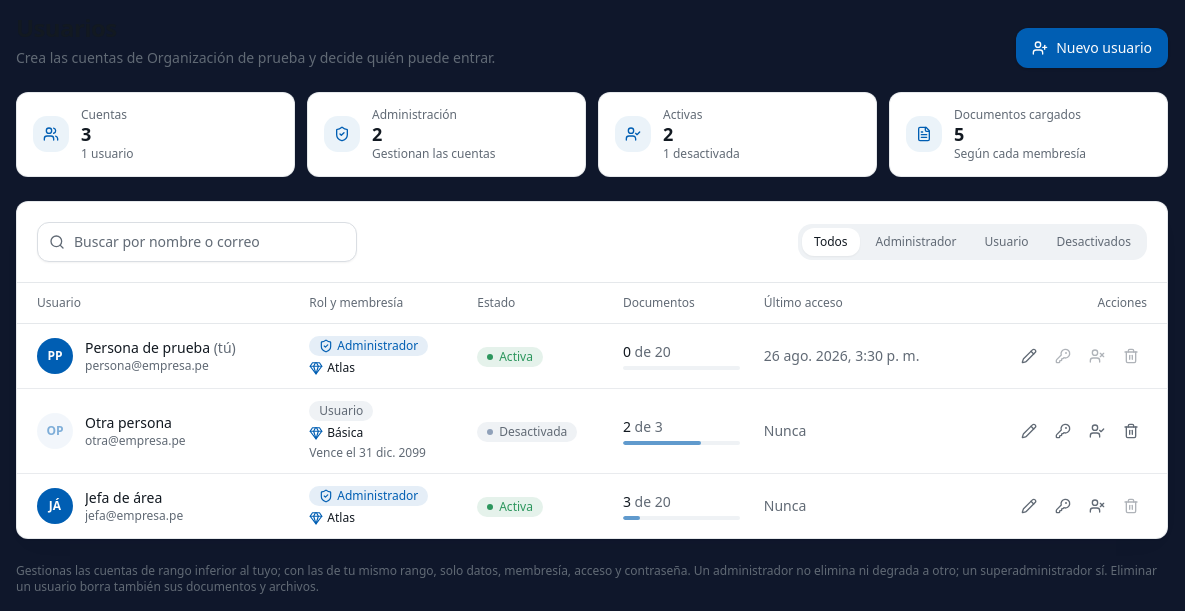
MembersPage: listado › busca por nombre o correo y filtra por tipo de cuenta
Expected: the text "Otra persona" is shown, x1=85 y1=412 x2=186 y2=432
Type "JEFA@" into the search field labelled "Buscar por nombre o correo". click: (197, 242)
box: x1=37 y1=222 x2=357 y2=262
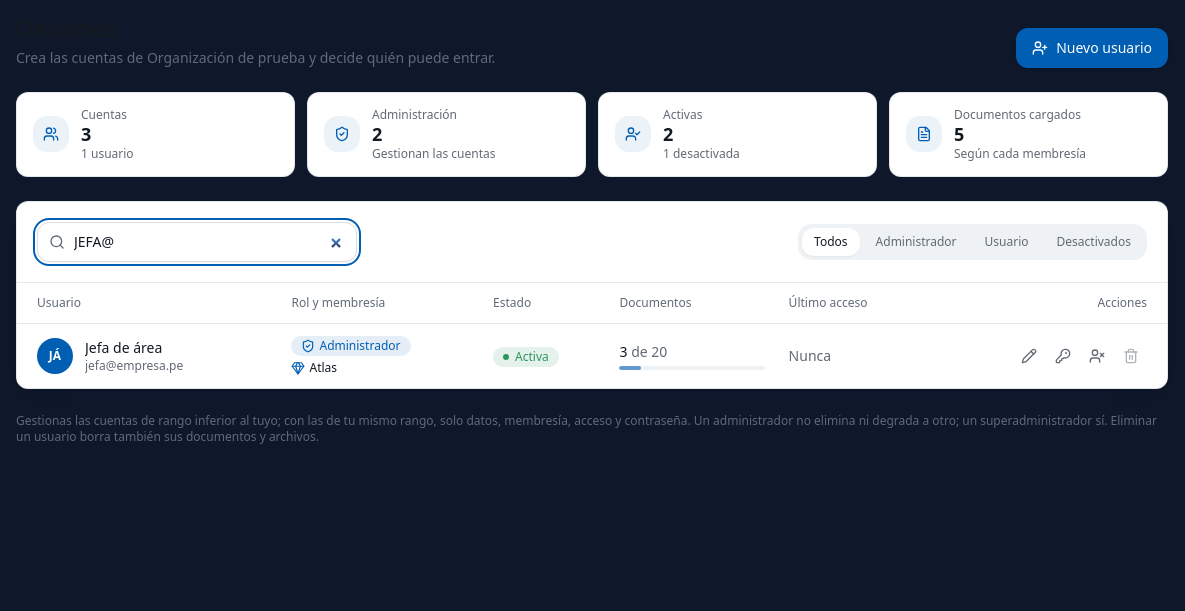
Expected: the text "Jefa de área" is shown, x1=85 y1=338 x2=162 y2=356
Expected: the text "Otra persona" is gone
Clear the search field named "Buscar por nombre o correo". click: (197, 242)
box: x1=37 y1=222 x2=357 y2=262
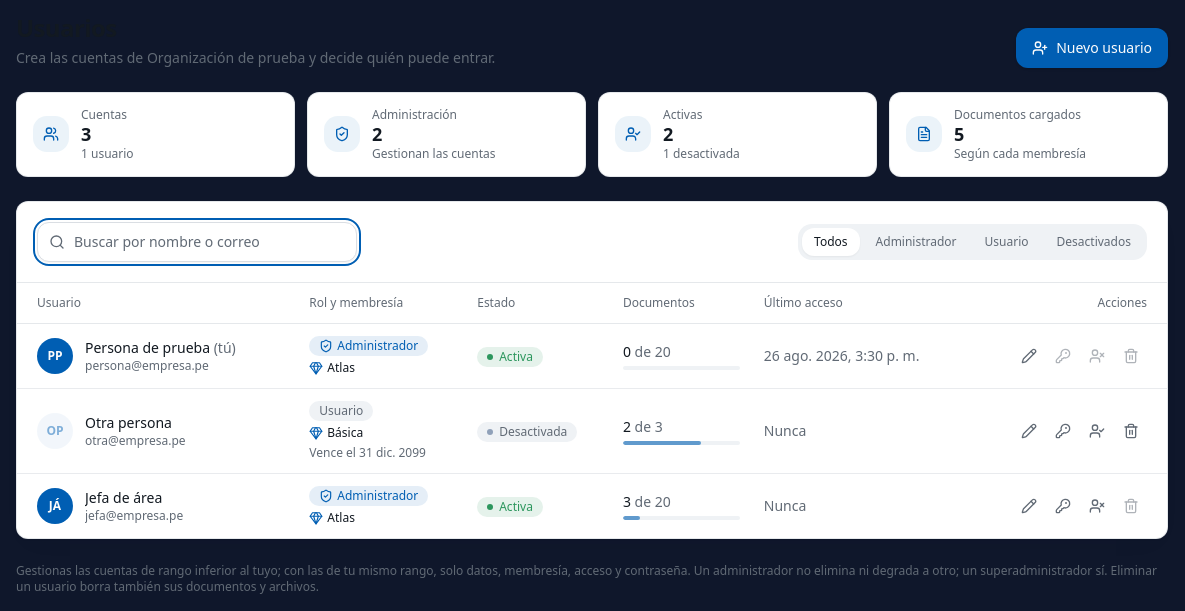
Click the button "Desactivados". click: (1094, 242)
box: x1=1045 y1=228 x2=1143 y2=256
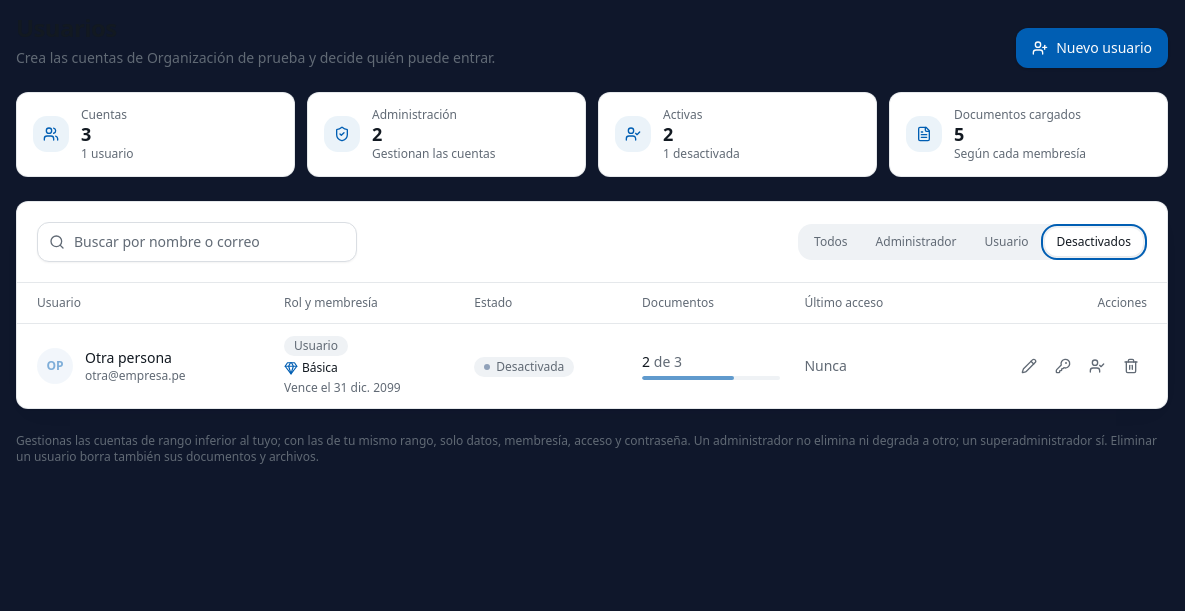
Expected: the text "Otra persona" is shown, x1=85 y1=348 x2=186 y2=368
Expected: the text "Jefa de área" is gone
Type "nadie" into the search field labelled "Buscar por nombre o correo". click: (197, 242)
box: x1=37 y1=222 x2=357 y2=262
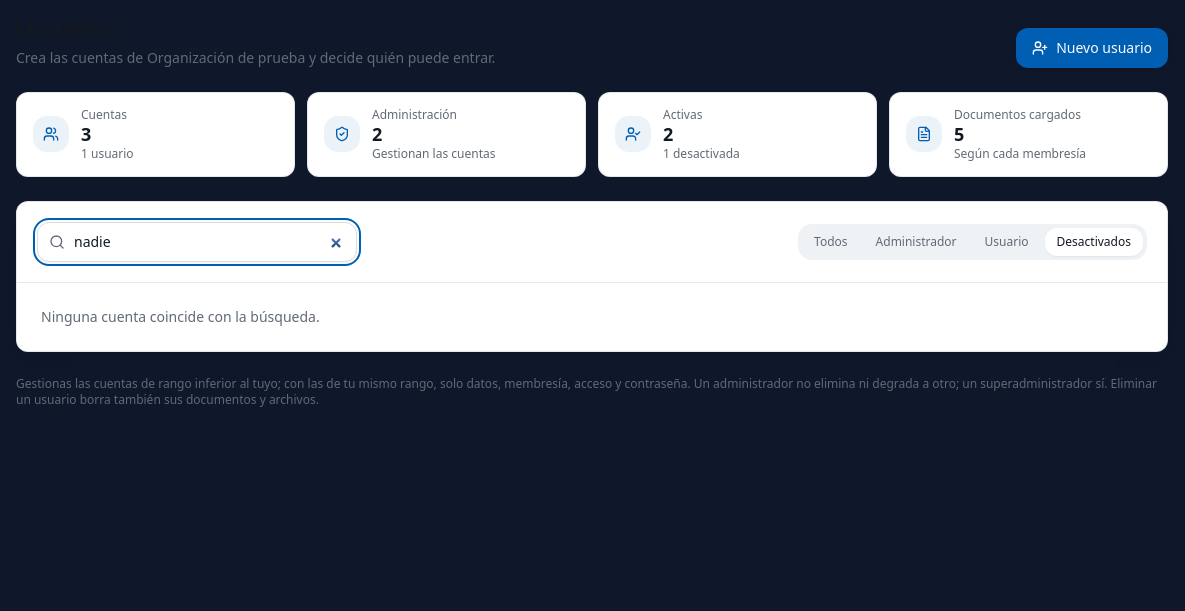
Expected: the text "Ninguna cuenta coincide con la búsqueda." is shown, x1=41 y1=306 x2=320 y2=326
